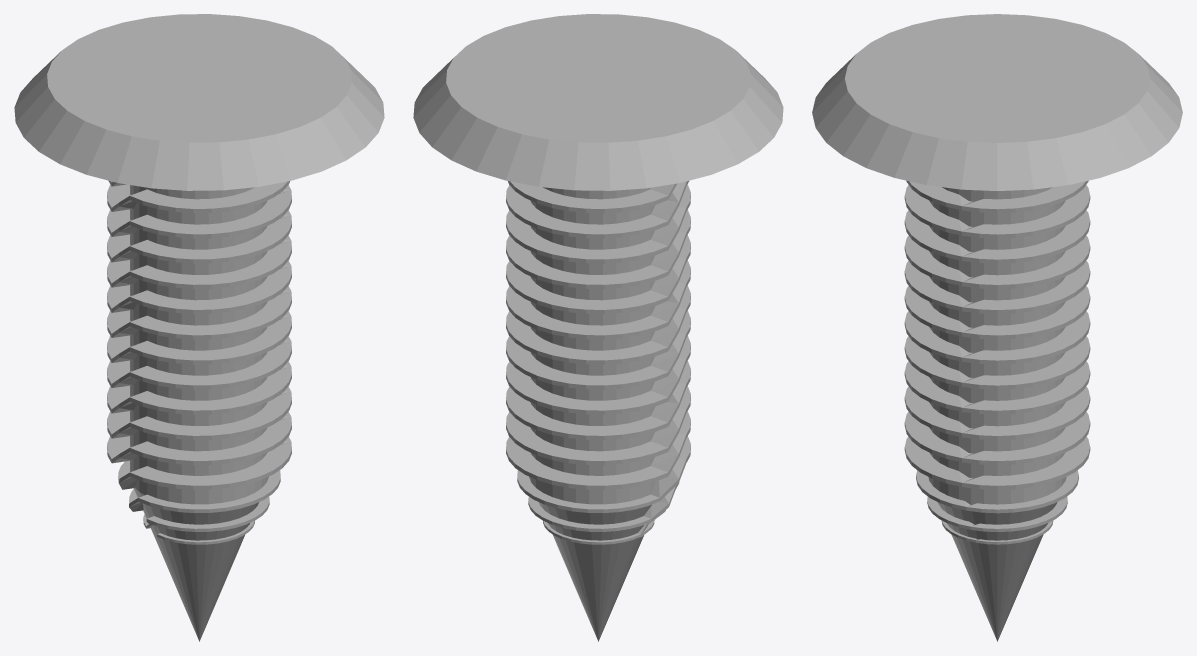
The model's file is Screw.obj.
3 renders of one model, left to right at view 1: azimuth 30°, elevation 25°; view 2: azimuth 150°, elevation 25°; view 3: azimuth 270°, elevation 25°, orthographic.
Visible parts, largest first — view 1: 円柱.001; view 2: 円柱.001; view 3: 円柱.001.
Part boxes in pixels (box(x1,y1,x2,y2)): 円柱.001: box(14, 14, 384, 641); 円柱.001: box(413, 14, 783, 641); 円柱.001: box(812, 14, 1182, 641).
Size of the model in its own units: 1.6 by 2.68 by 1.6.
1 material, 1 textured.
